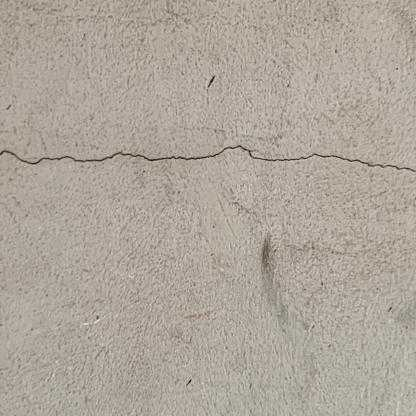crack: (0, 144, 416, 173)
